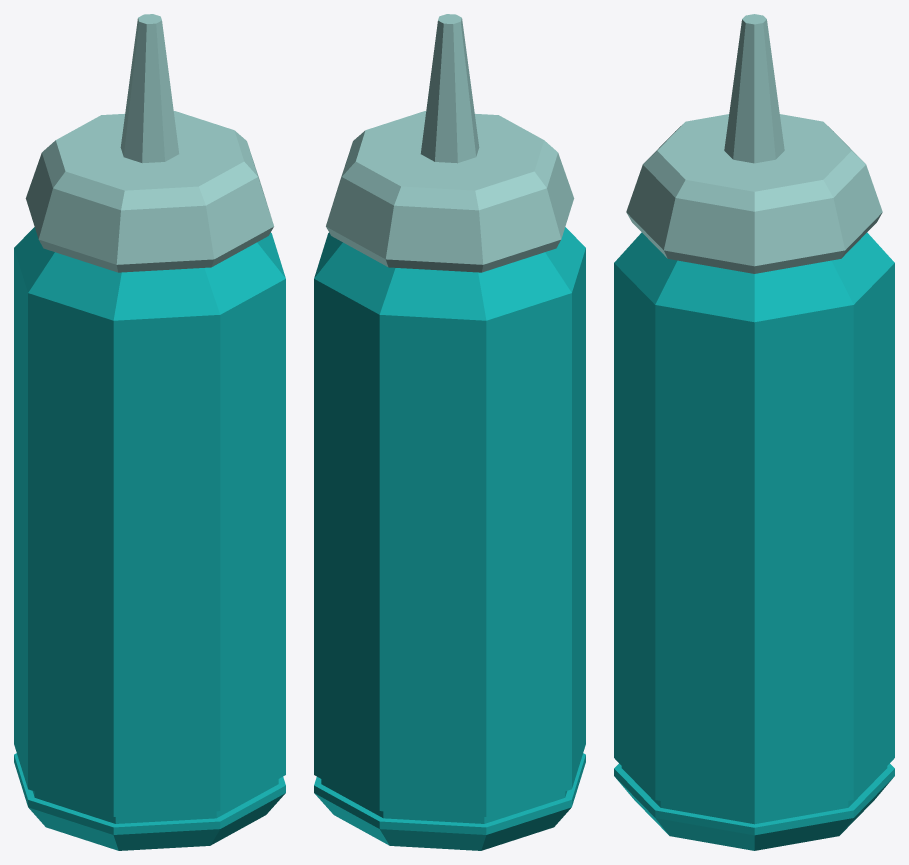
File: Potion.MintSquEZ.fbx
3 views of the same model, side by side, from view 1: azimuth 30°, elevation 25°; view 2: azimuth 150°, elevation 25°; view 3: azimuth 270°, elevation 25° (orthographic).
Parts seen in each view (by area): view 1: Potion.MintSquEZ; view 2: Potion.MintSquEZ; view 3: Potion.MintSquEZ.
Part boxes in pixels (x1,y1,x2,y2): Potion.MintSquEZ: (14,14,285,850); Potion.MintSquEZ: (314,14,585,850); Potion.MintSquEZ: (614,14,894,850).
Bounding box in the file's own units: 33.09 × 102 × 33.09.
